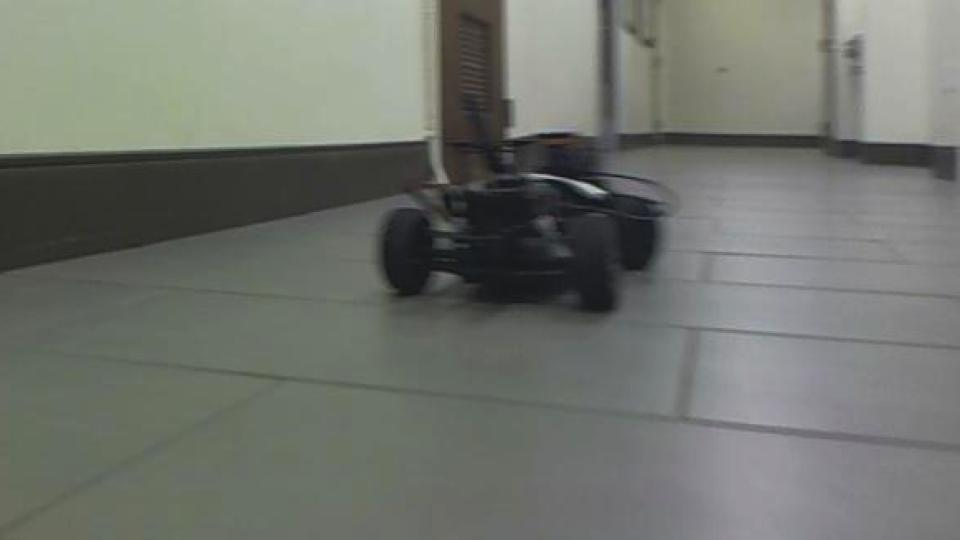car: (376, 122, 681, 314)
